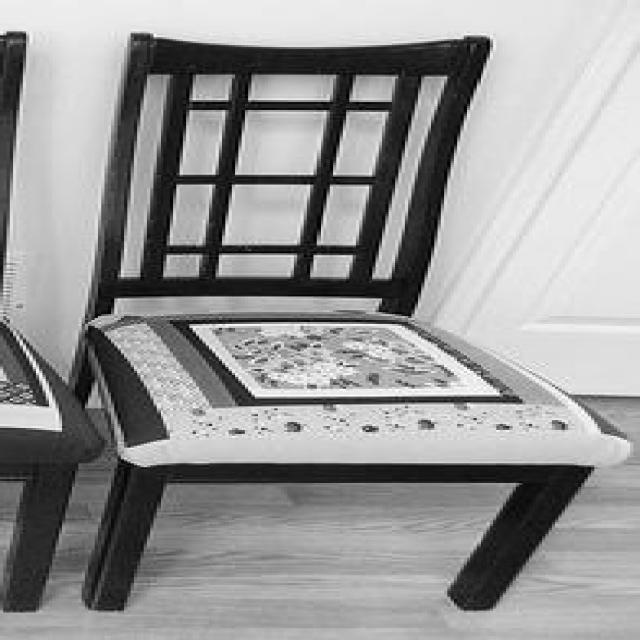chair: (71, 32, 626, 614)
